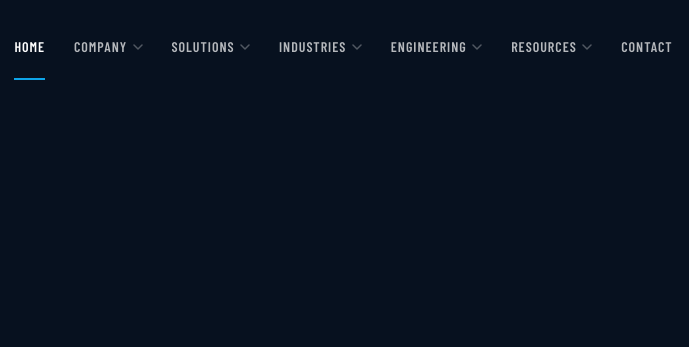
Scenario: Navigation › renders Solutions dropdown with 5 children when opened
Click the button "Solutions" at (211, 46), box left=157, top=12, right=265, bottom=80
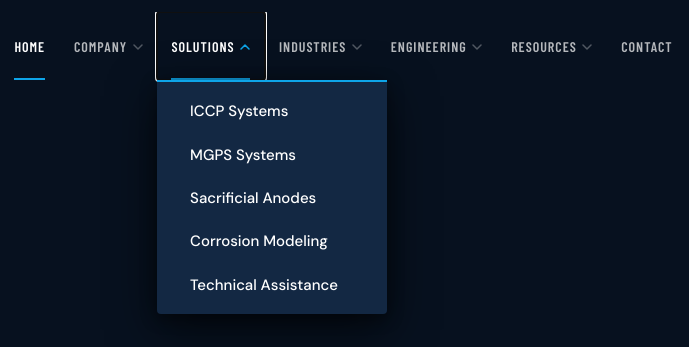
Expected: the link "ICCP Systems" is shown, left=190, top=101, right=288, bottom=121
Expected: the link "MGPS Systems" is shown, left=190, top=145, right=296, bottom=165
Expected: the link "Sacrificial Anodes" is shown, left=190, top=188, right=316, bottom=208
